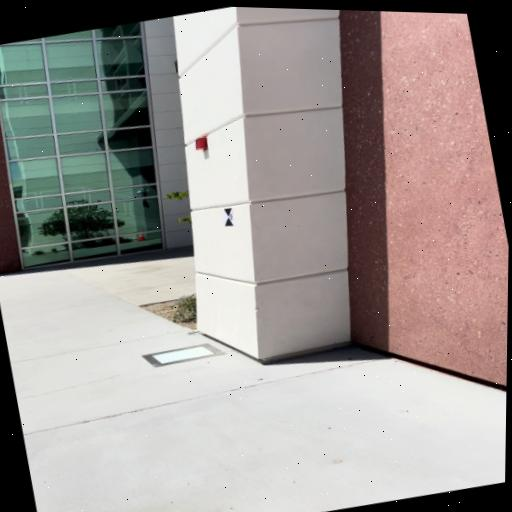target6: (223, 208, 233, 226)
